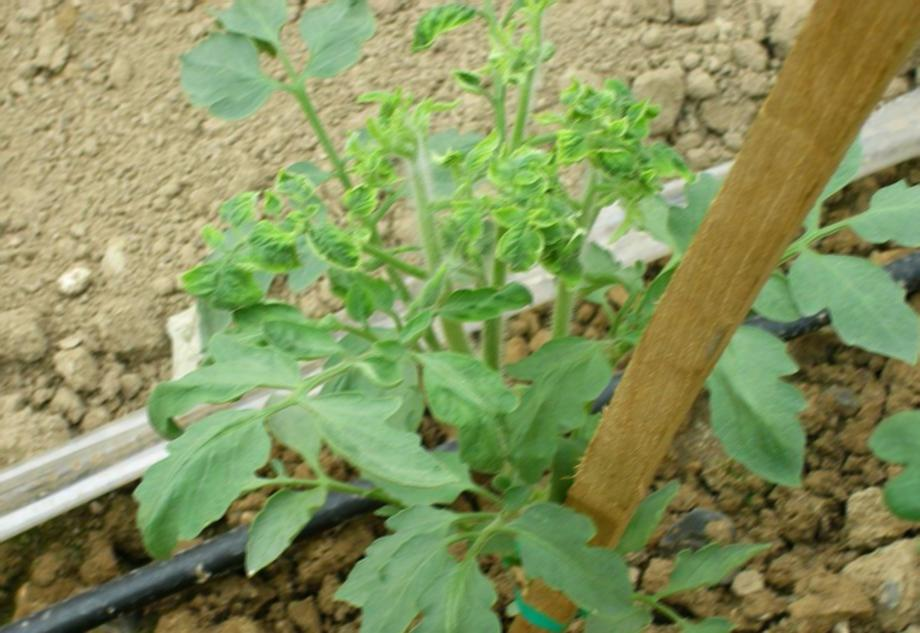Tomato leaf: (139, 405, 270, 570), (274, 368, 443, 481), (499, 324, 621, 471), (712, 320, 814, 482), (513, 500, 637, 623), (800, 241, 920, 366), (344, 530, 458, 633), (177, 29, 279, 125), (405, 550, 518, 633), (283, 0, 377, 97), (839, 159, 920, 264), (242, 479, 330, 573), (652, 532, 772, 596), (261, 314, 349, 364)
